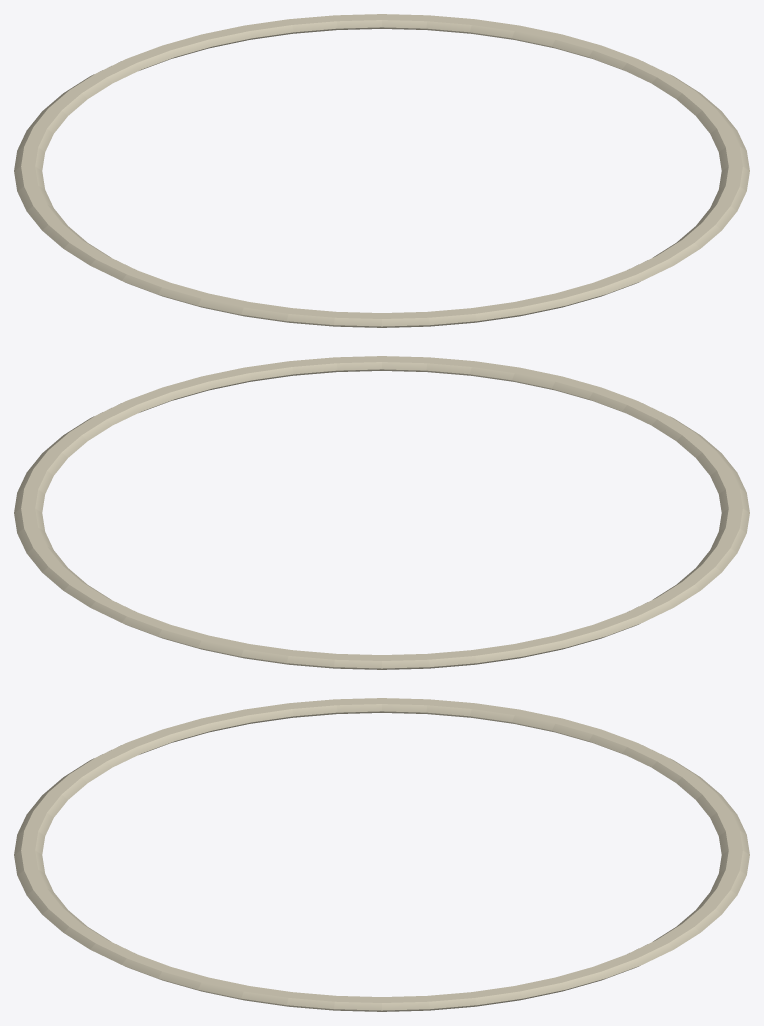
The model's file is destination_ring.glb.
The picture shows the model from 3 angles, top to bottom: view 1: azimuth 30°, elevation 25°; view 2: azimuth 150°, elevation 25°; view 3: azimuth 270°, elevation 25°; orthographic projection.
Parts seen in each view (by area): view 1: destination_ring; view 2: destination_ring; view 3: destination_ring.
Boxes of the visible parts, x1,y1,x2,y2 form: destination_ring: (14, 14, 749, 327); destination_ring: (14, 356, 749, 669); destination_ring: (14, 698, 749, 1011).
Bounding box in the file's own units: 2.08 × 0.0277 × 2.08.
